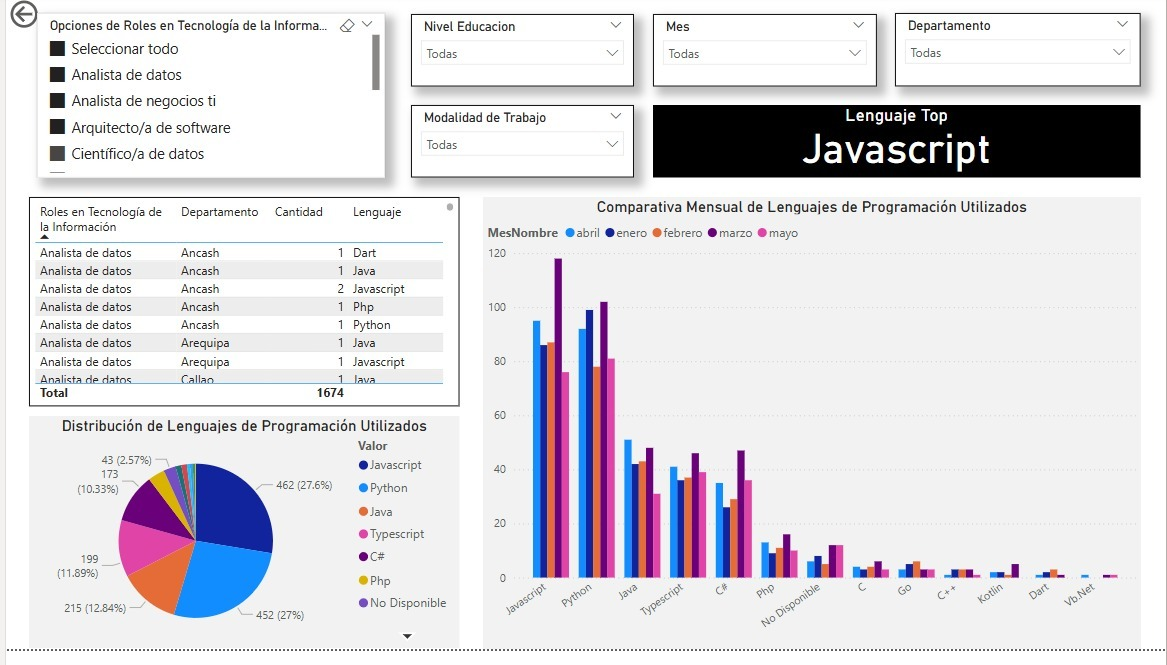

This screenshot's page, from the dashboard's own definition file:
{"tool":"powerbi","page":{"name":"1","canvas":[1280,720],"ordinal":0},"visuals":[{"type":"lineClusteredColumnComboChart","title":"Comparativa Mensual de Lenguajes de Programación Utilizados","fields":{"Category":["ofertas_final_parquet (2).Lenguajes"],"Y":["CountNonNull(ofertas_final_parquet (2).MesNombre)"],"Series":["ofertas_final_parquet (2).MesNombre"]},"box":[526.3,221.7,725.8,499.3],"z":0},{"type":"card","title":"Lenguaje Top","fields":{"Values":["ofertas_final_parquet (2).LenguajeTop"]},"box":[714.2,120.5,537.8,80],"z":1000},{"type":"slicer","fields":{"Values":["ofertas_final_parquet (2).MesNombre"]},"box":[714.2,20.2,246.7,80],"z":3000},{"type":"slicer","fields":{"Values":["ofertas_final_parquet (2).modalidad_trabajo"]},"box":[447.2,120.5,245.8,80],"z":4000},{"type":"slicer","fields":{"Values":["ofertas_final_parquet (2).nivel_educacion"]},"box":[447.2,20.2,245.8,80],"z":5000},{"type":"tableEx","fields":{"Values":["ofertas_final_parquet (2).categoria_puesto","ofertas_final_parquet (2).region_departamento","ofertas_final_parquet (2).Valor","CountNonNull(ofertas_final_parquet (2).categoria_puesto)"]},"box":[25.6,221.5,484.5,231.1],"z":6000},{"type":"slicer","fields":{"Values":["ofertas_final_parquet (2).categoria_puesto"]},"box":[25.3,18.5,392.9,181.9],"z":7000},{"type":"slicer","fields":{"Values":["ofertas_final_parquet (2).region_departamento"]},"box":[981.2,19.3,270.8,81],"z":8000},{"type":"pieChart","title":"Distribución de Lenguajes de Programación Utilizados","fields":{"Y":["CountNonNull(ofertas_final_parquet (2).MesNombre)"],"Category":["ofertas_final_parquet (2).Valor"]},"box":[25.6,463.2,484.5,256.6],"z":9000}]}

Visuals, with their boxes in screenshot pixels (x1, y1, x2, y2), scaled from the page's 1280x720 canvas onto the 1167x665 screenshot:
"Comparativa Mensual de Lenguajes de Programación Utilizados" lineClusteredColumnComboChart: 480:205:1142:664
"Lenguaje Top" card: 651:111:1141:185
slicer - ofertas_final_parquet (2).MesNombre: 651:19:876:93
slicer - ofertas_final_parquet (2).modalidad_trabajo: 408:111:632:185
slicer - ofertas_final_parquet (2).nivel_educacion: 408:19:632:93
tableEx - ofertas_final_parquet (2).categoria_puesto x ofertas_final_parquet (2).region_departamento: 23:205:465:418
slicer - ofertas_final_parquet (2).categoria_puesto: 23:17:381:185
slicer - ofertas_final_parquet (2).region_departamento: 895:18:1141:93
"Distribución de Lenguajes de Programación Utilizados" pieChart: 23:428:465:664
